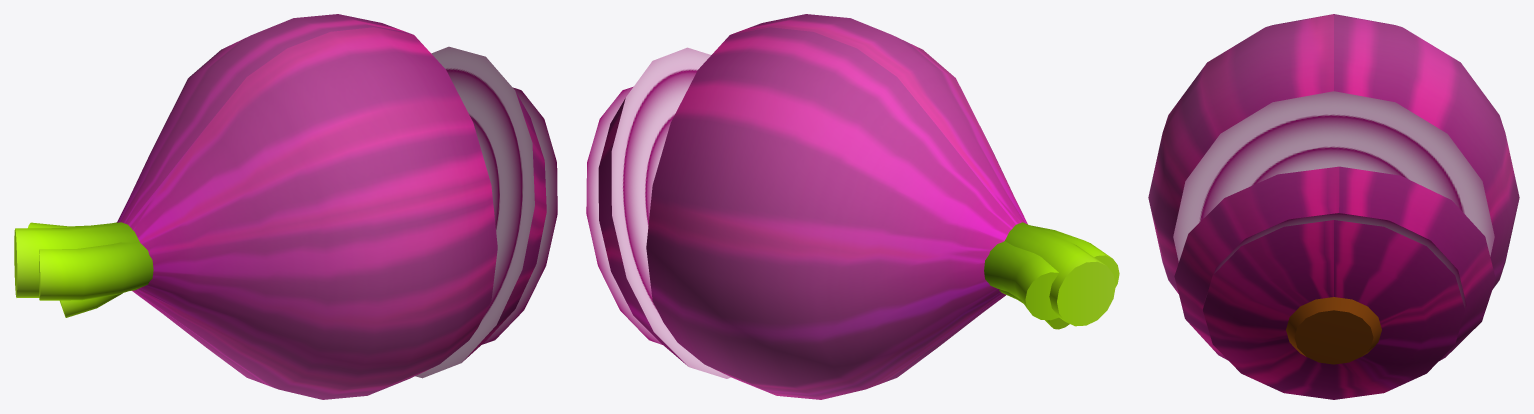
File: Onion_01_S2.fbx
The picture shows the model from 3 angles, left to right: view 1: azimuth 30°, elevation 25°; view 2: azimuth 150°, elevation 25°; view 3: azimuth 270°, elevation 25°; orthographic projection. The views are drawn at different scales.
Parts seen in each view (by area): view 1: Onion_01_S2; view 2: Onion_01_S2; view 3: Onion_01_S2.
Boxes of the visible parts, x1,y1,x2,y2 form: Onion_01_S2: (14, 14, 557, 399); Onion_01_S2: (586, 14, 1119, 399); Onion_01_S2: (1148, 14, 1519, 399).
Size of the model in its own units: 49.52 by 32.97 by 32.97.
